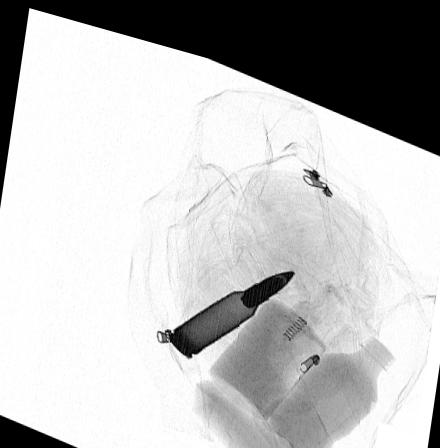Bullet: (166, 253, 296, 348)
